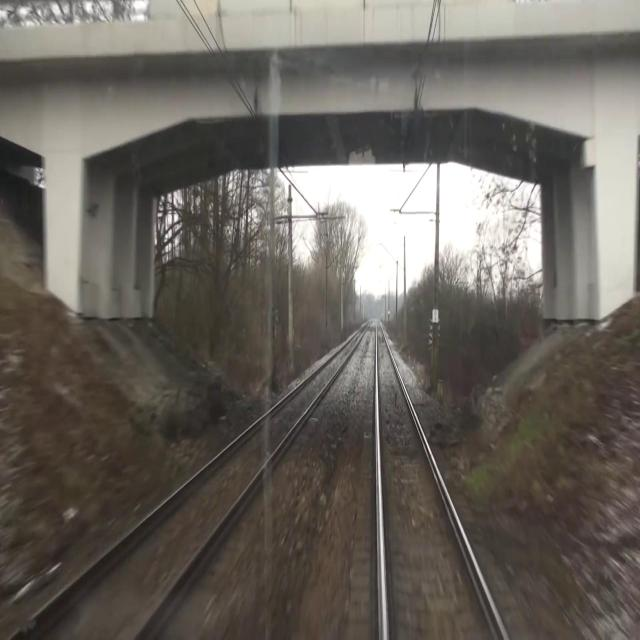rail-track: (13, 330, 363, 639), (378, 322, 504, 639)
